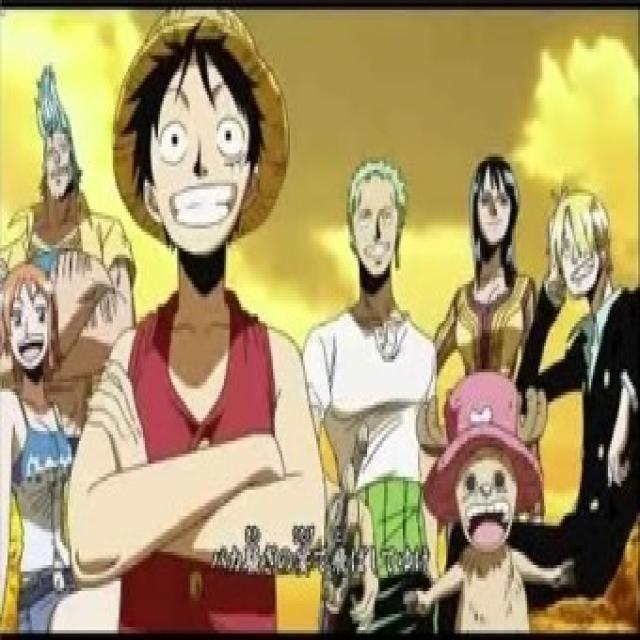Chyopa: (418, 369, 554, 575)
Franky: (32, 62, 88, 216)
Luffy: (113, 6, 291, 251)
Nami: (0, 254, 65, 387)
NicoRobin: (460, 150, 530, 294)
Sangdi: (542, 182, 615, 326)
Zoro: (339, 157, 413, 289)
